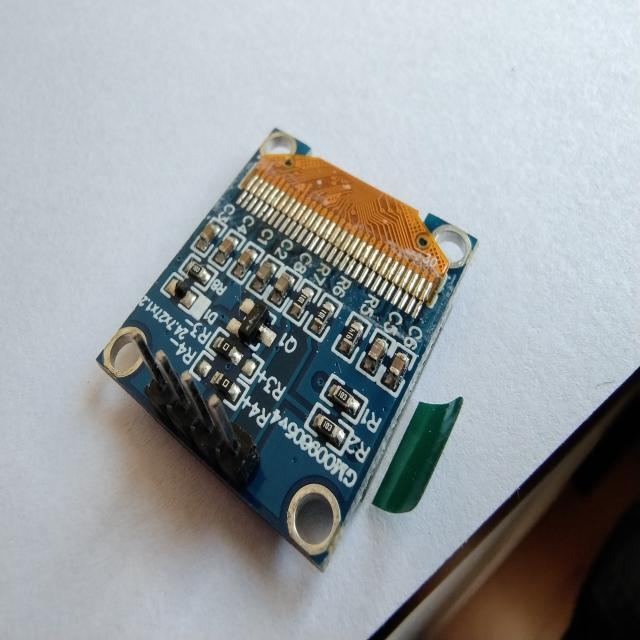oled: (84, 123, 502, 584)
